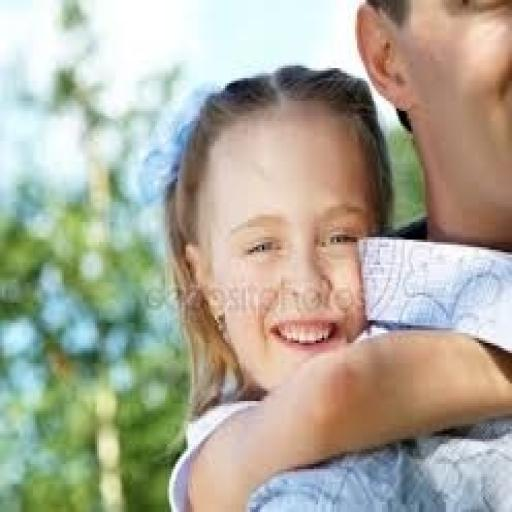hugging: (151, 60, 510, 510)
